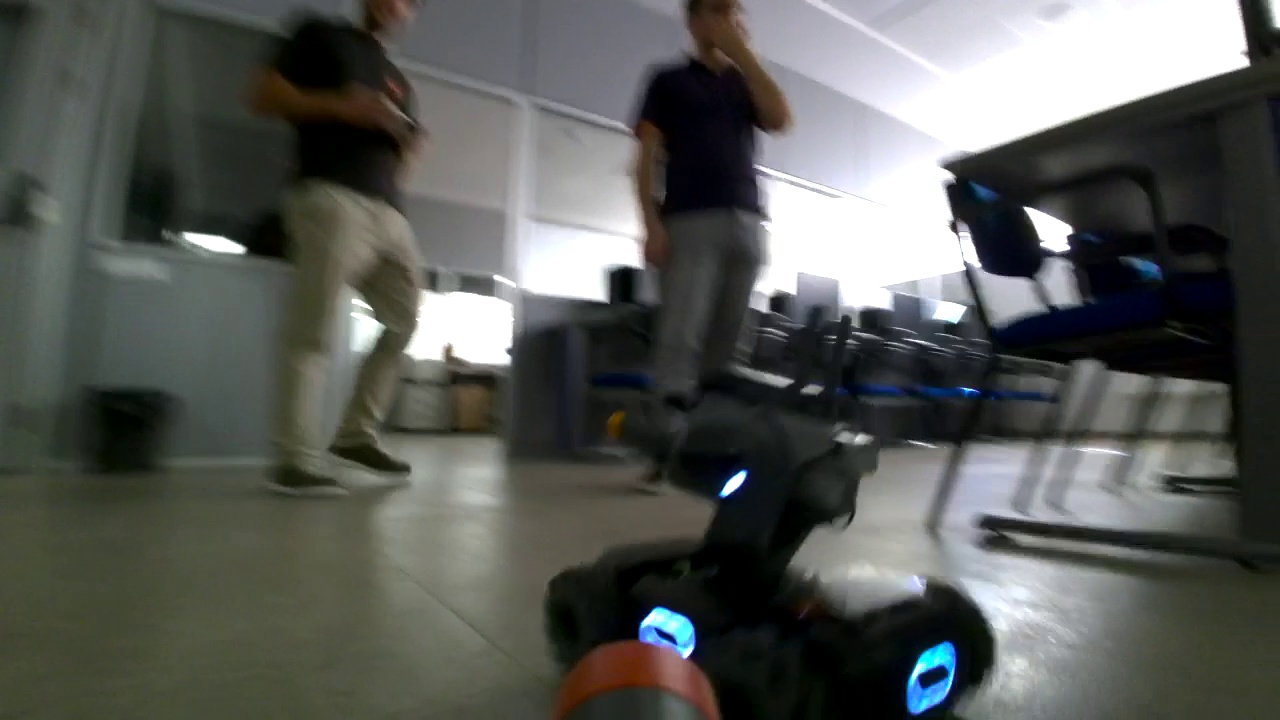robot: (544, 313, 996, 719)
